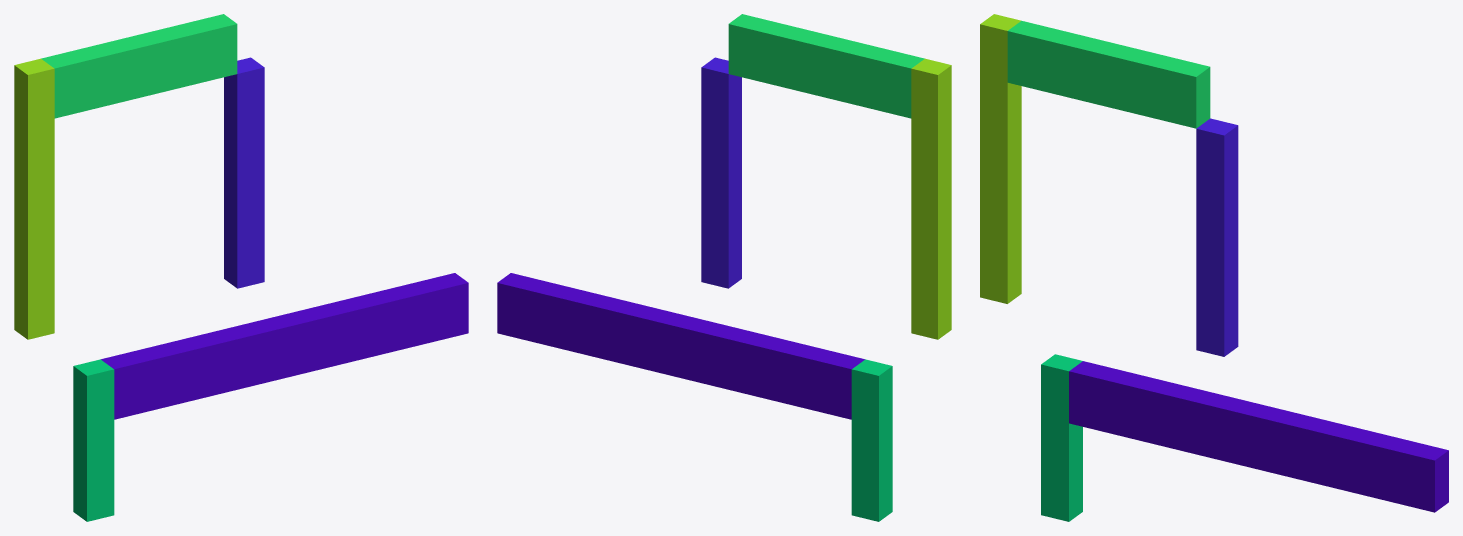
File: tinker.obj
3 renders of one model, left to right at view 1: azimuth 30°, elevation 25°; view 2: azimuth 150°, elevation 25°; view 3: azimuth 330°, elevation 25°, orthographic. The views are drawn at different scales.
Visible parts, largest first — view 1: group_0_5374167, group_0_1960305, group_0_10283293, group_0_4726249, group_0_55165; view 2: group_0_5374167, group_0_1960305, group_0_10283293, group_0_4726249, group_0_55165; view 3: group_0_5374167, group_0_1960305, group_0_10283293, group_0_4726249, group_0_55165.
Boxes of the visible parts, box(x1,y1,x2,y2) form: group_0_5374167: box(101, 273, 468, 419); group_0_1960305: box(41, 14, 237, 118); group_0_10283293: box(14, 58, 54, 339); group_0_4726249: box(224, 57, 264, 288); group_0_55165: box(73, 359, 114, 521); group_0_5374167: box(497, 273, 864, 419); group_0_1960305: box(728, 14, 924, 118); group_0_10283293: box(911, 58, 951, 339); group_0_4726249: box(701, 57, 741, 288); group_0_55165: box(851, 359, 892, 521); group_0_5374167: box(1069, 361, 1448, 512); group_0_1960305: box(1007, 20, 1210, 128); group_0_10283293: box(980, 14, 1021, 303); group_0_4726249: box(1196, 118, 1238, 356); group_0_55165: box(1041, 354, 1082, 521).
Bounding box in the file's own units: 998 × 998 × 53.46.
